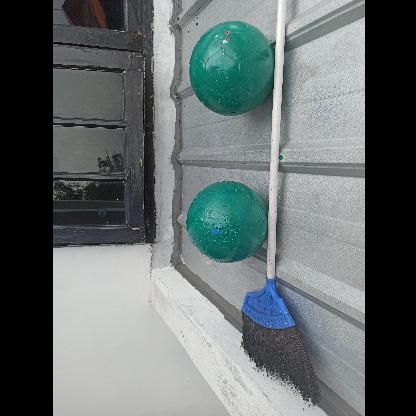green_ball: (184, 20, 278, 114), (183, 180, 265, 262)
